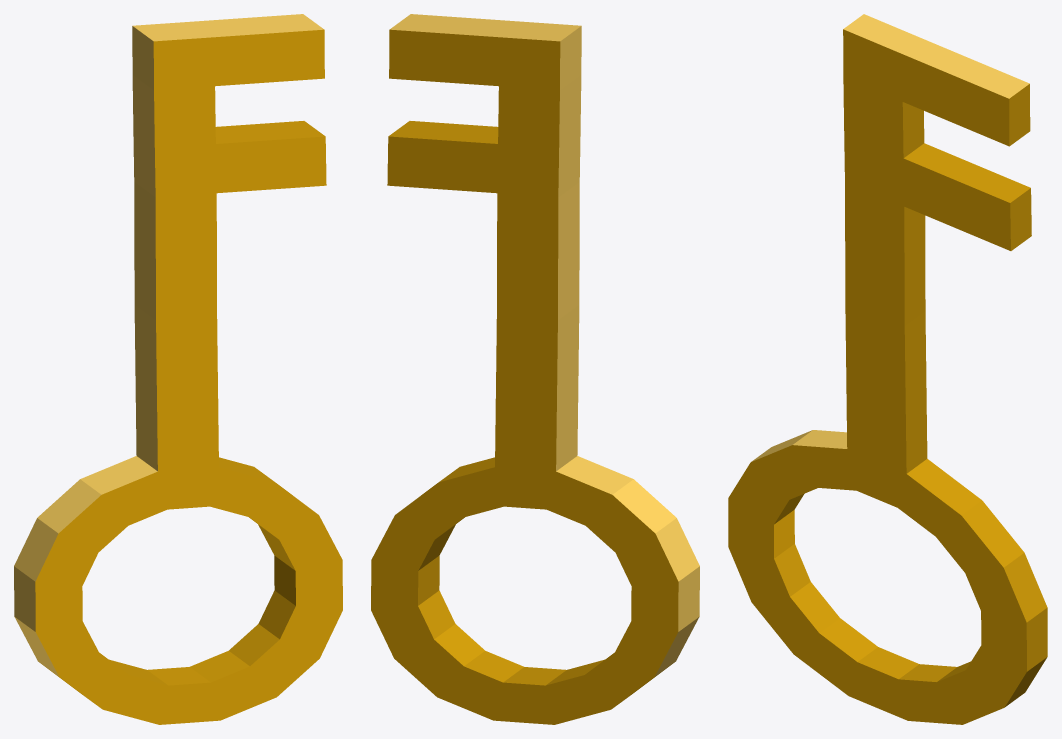
File: key.fbx
3 renders of one model, left to right at view 1: azimuth 30°, elevation 25°; view 2: azimuth 150°, elevation 25°; view 3: azimuth 330°, elevation 25°, orthographic. The views are drawn at different scales.
Parts seen in each view (by area): view 1: Cylinder; view 2: Cylinder; view 3: Cylinder.
Part boxes in pixels (x1=…): Cylinder: x1=14, y1=14, x2=342, y2=724; Cylinder: x1=371, y1=14, x2=699, y2=724; Cylinder: x1=728, y1=14, x2=1047, y2=724.
Bounding box in the file's own units: 37.2 × 80.4 × 4.49.
